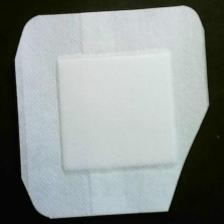Cut: (13, 7, 212, 221)
